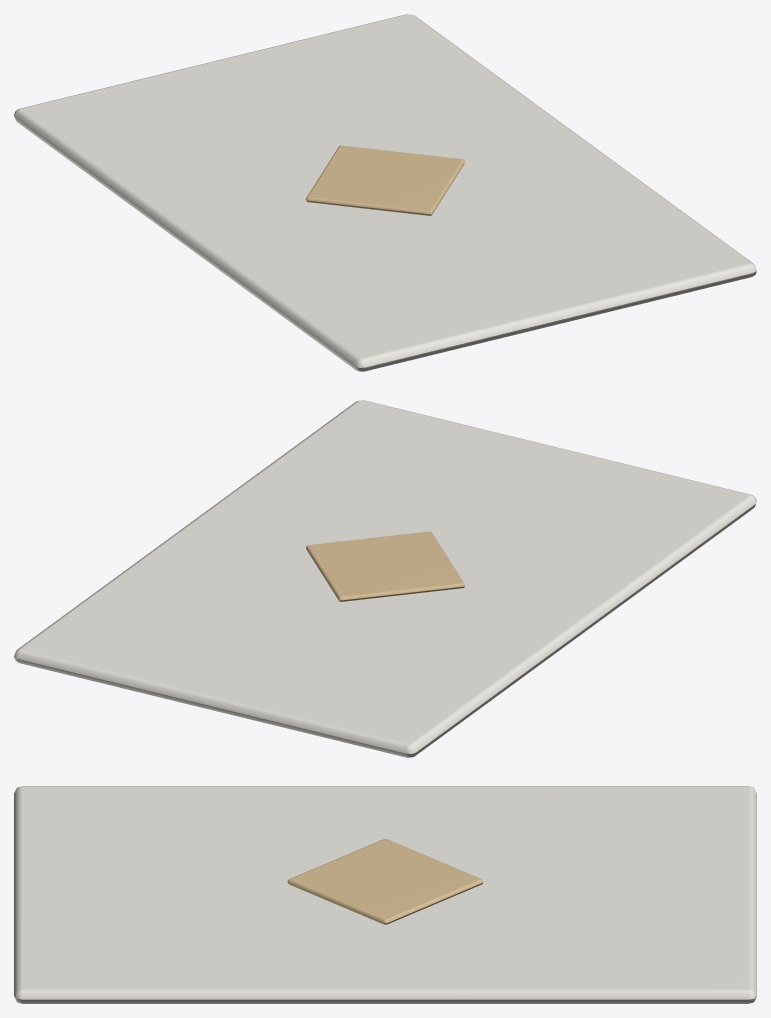
File: playing-card.glb
3 views of the same model, one above another, from view 1: azimuth 30°, elevation 25°; view 2: azimuth 150°, elevation 25°; view 3: azimuth 270°, elevation 25° (orthographic). The views are drawn at different scales.
Visible parts, largest first — view 1: CardBody, CardAbstractFace; view 2: CardBody, CardAbstractFace; view 3: CardBody, CardAbstractFace.
Part boxes in pixels (x1,y1,x2,y2): CardBody: [14, 14, 756, 371]; CardAbstractFace: [306, 145, 464, 215]; CardBody: [14, 400, 756, 757]; CardAbstractFace: [306, 531, 464, 601]; CardBody: [14, 786, 756, 1003]; CardAbstractFace: [287, 839, 483, 924].
Size of the model in its own units: 1.2 by 0.09 by 1.8.
